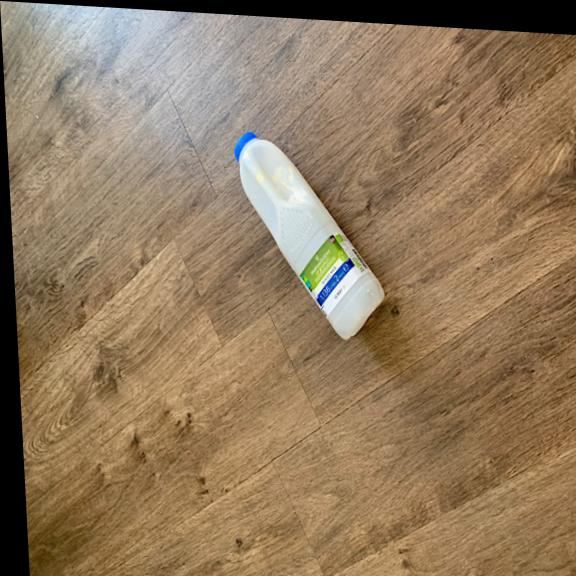Plastik: (231, 127, 392, 344)
